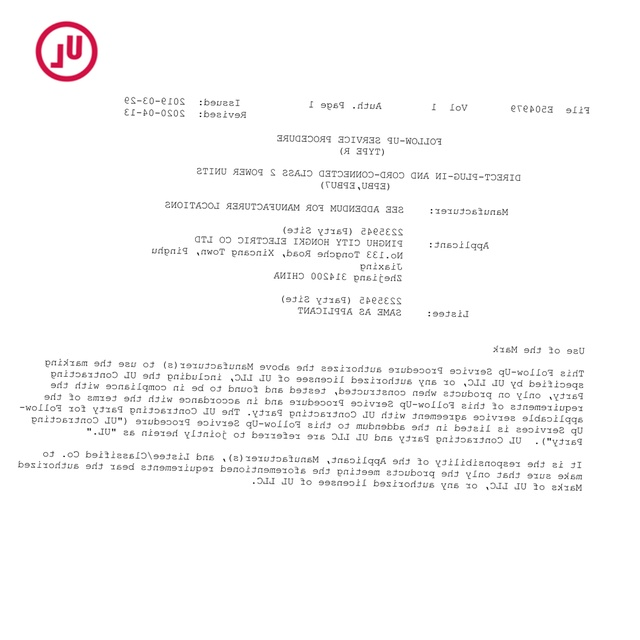ul: (33, 20, 103, 83)
